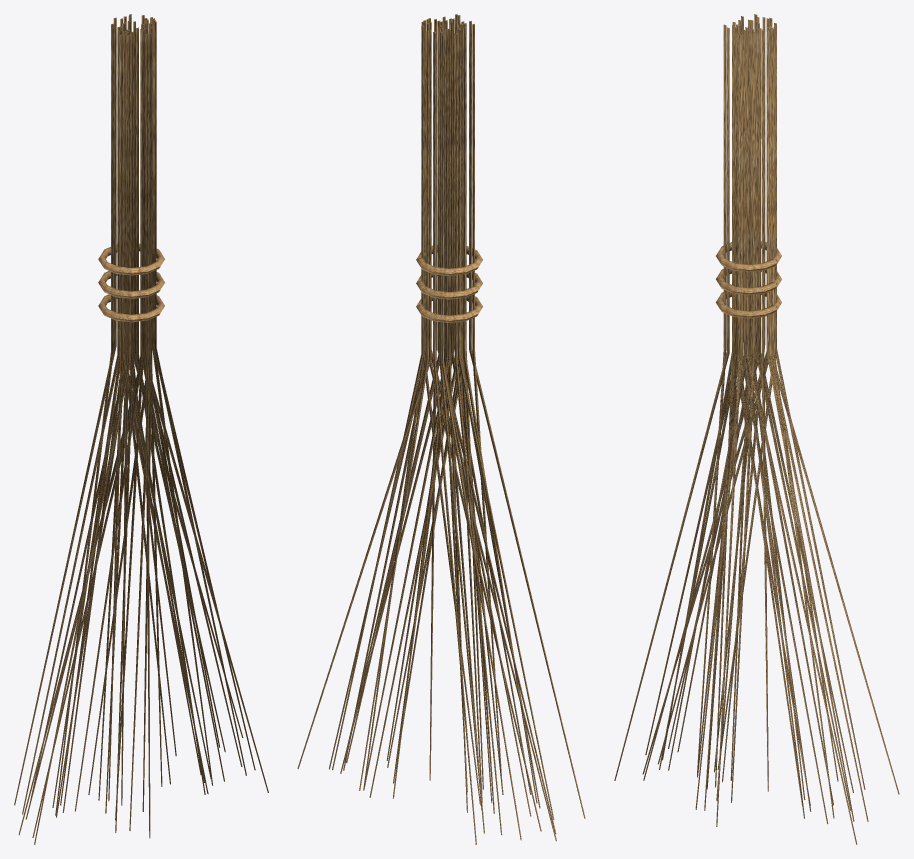
The model's file is prop_jharu.glb.
3 renders of one model, left to right at view 1: azimuth 30°, elevation 25°; view 2: azimuth 150°, elevation 25°; view 3: azimuth 330°, elevation 25°, orthographic.
Visible parts, largest first — view 1: prop_jharu; view 2: prop_jharu; view 3: prop_jharu.
Part boxes in pixels (<box>): prop_jharu: <box>14,14,268,844</box>; prop_jharu: <box>297,14,585,844</box>; prop_jharu: <box>614,14,899,844</box>.
Size of the model in its own units: 0.2297 by 0.7 by 0.0787.
2 materials, 2 textured.
